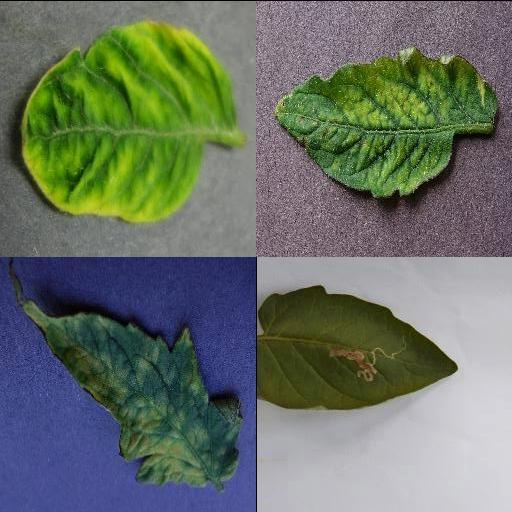Leaf Miner: (256, 282, 457, 410)
Leaf Mold: (19, 297, 243, 483)
Mosaic Virus: (274, 47, 498, 199)
Yellow Leaf Curl Virus: (20, 19, 236, 223)
